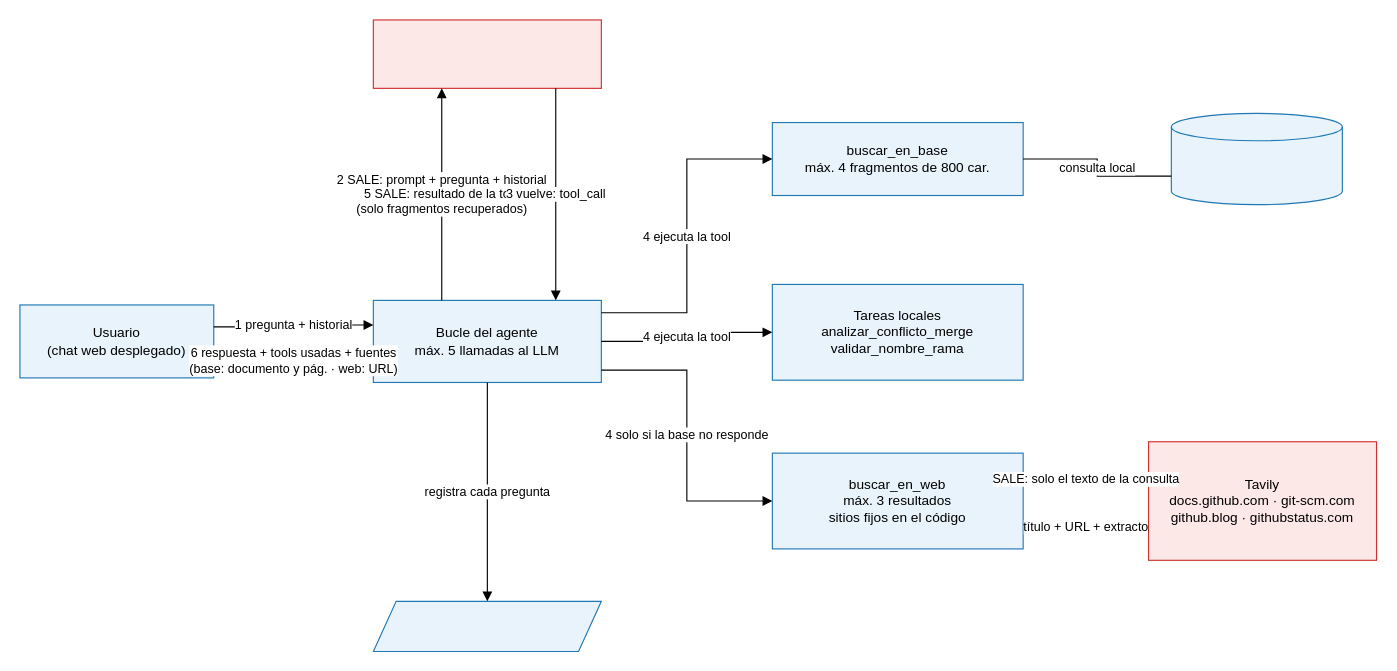
Some shapes in this 1397 by 671 pixel diagram are drawn without their labels. Here are the shapes that lost their labels. From the top down, the centre of each, then its label:
the point at 486,53: LLM · Groq gpt-oss-120b
the point at 1256,158: Chroma local corpus + índice
the point at 486,626: logs/uso_tools.jsonl
